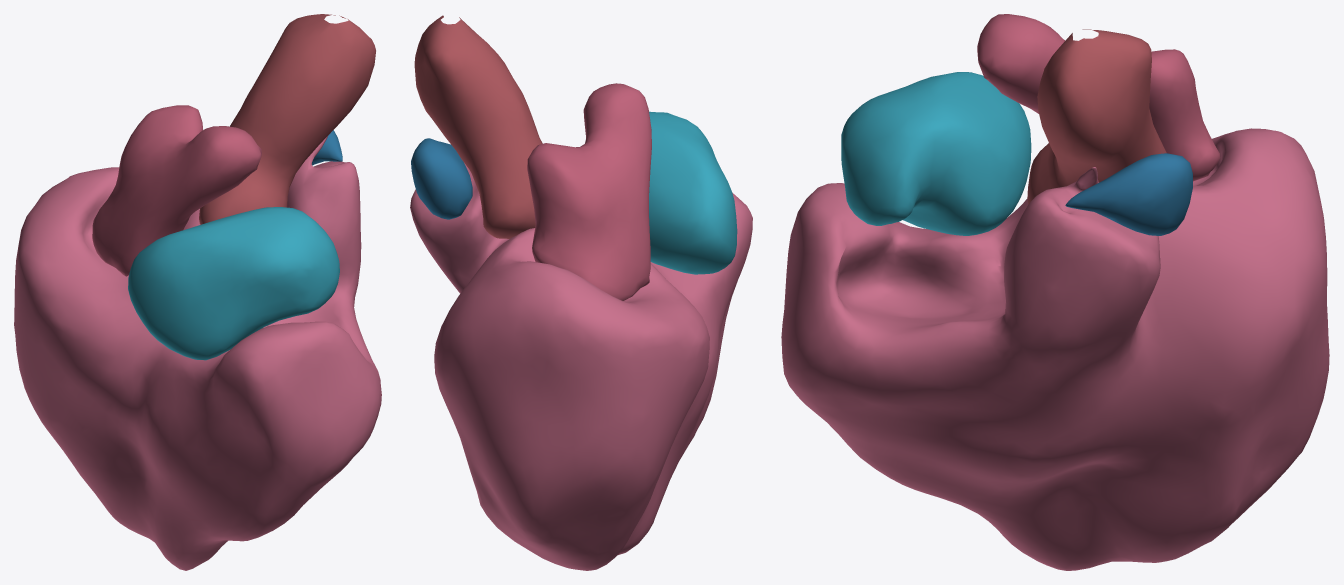
The model's file is frame_67.glb.
3 views of the same model, side by side, from view 1: azimuth 30°, elevation 25°; view 2: azimuth 150°, elevation 25°; view 3: azimuth 270°, elevation 25° (orthographic). The views are drawn at different scales.
Parts seen in each view (by area): view 1: Renderer Node; view 2: Renderer Node; view 3: Renderer Node.
Part boxes in pixels (x1,y1,x2,y2): Renderer Node: (14,14,381,570); Renderer Node: (410,15,752,570); Renderer Node: (781,14,1329,570).
Bounding box in the file's own units: 102 × 162 × 127.
